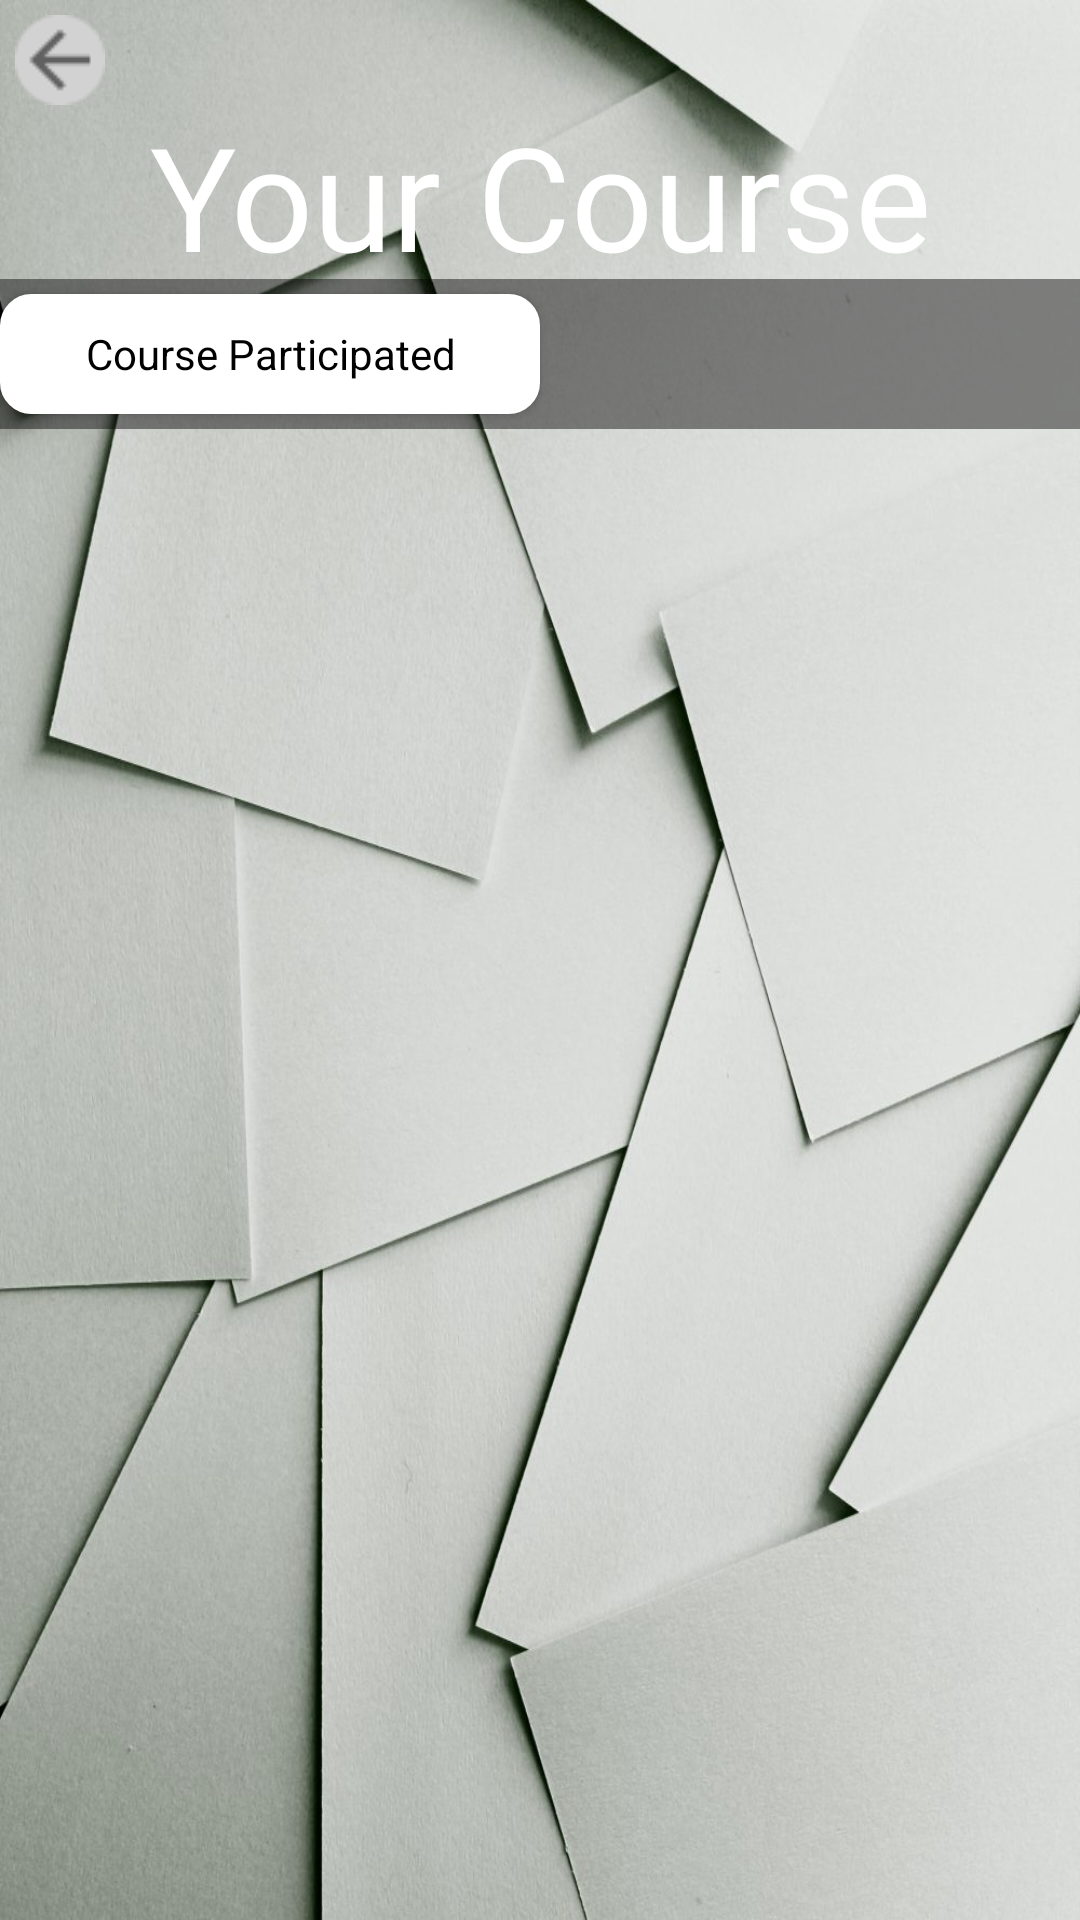

Point at icon controls on the screen. Image size 1080w x 1920h, points as [x,y].
back: [60,60]
